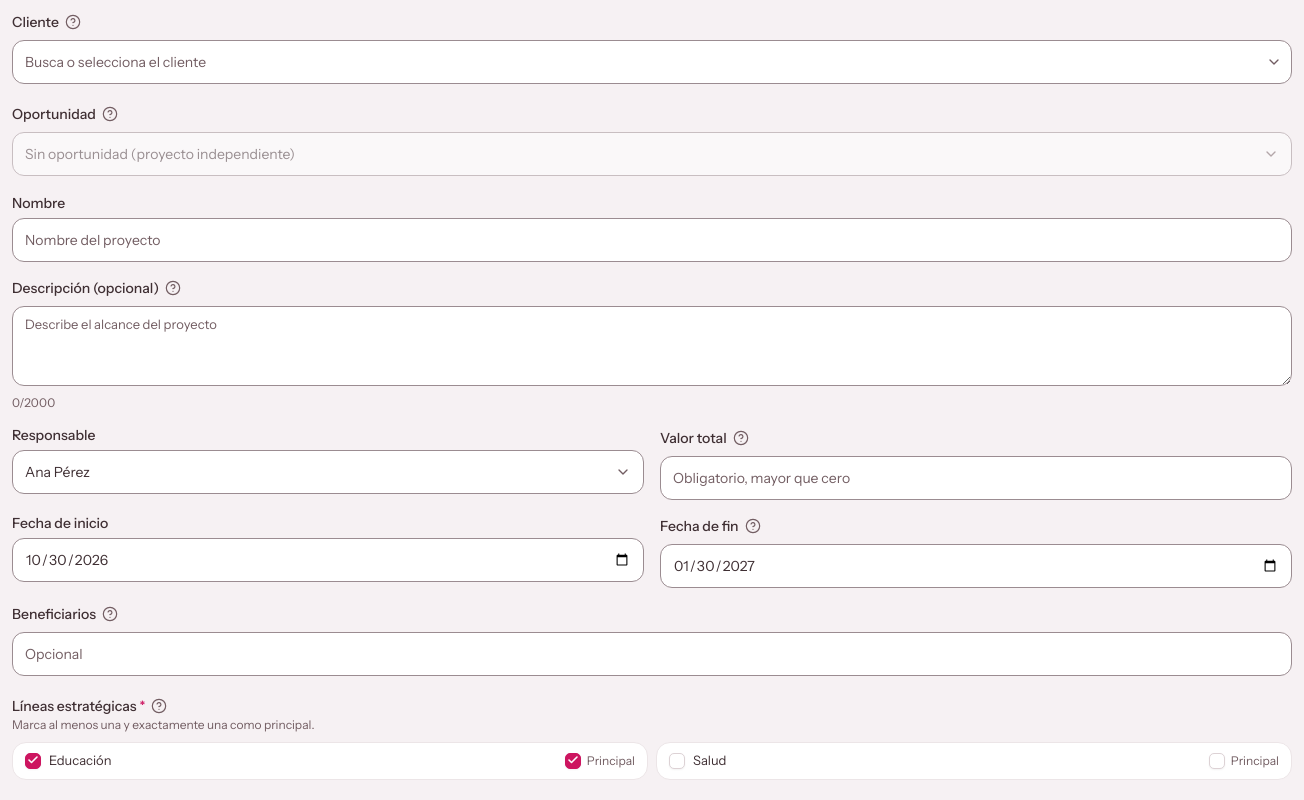
Test: ProjectCreateForm › shows the client card with the data available once a client is chosen
The width and height of the screenshot is (1304, 800).
Click the dropdown labelled "Cliente". click: (652, 62)
box: [12,40,1292,84]
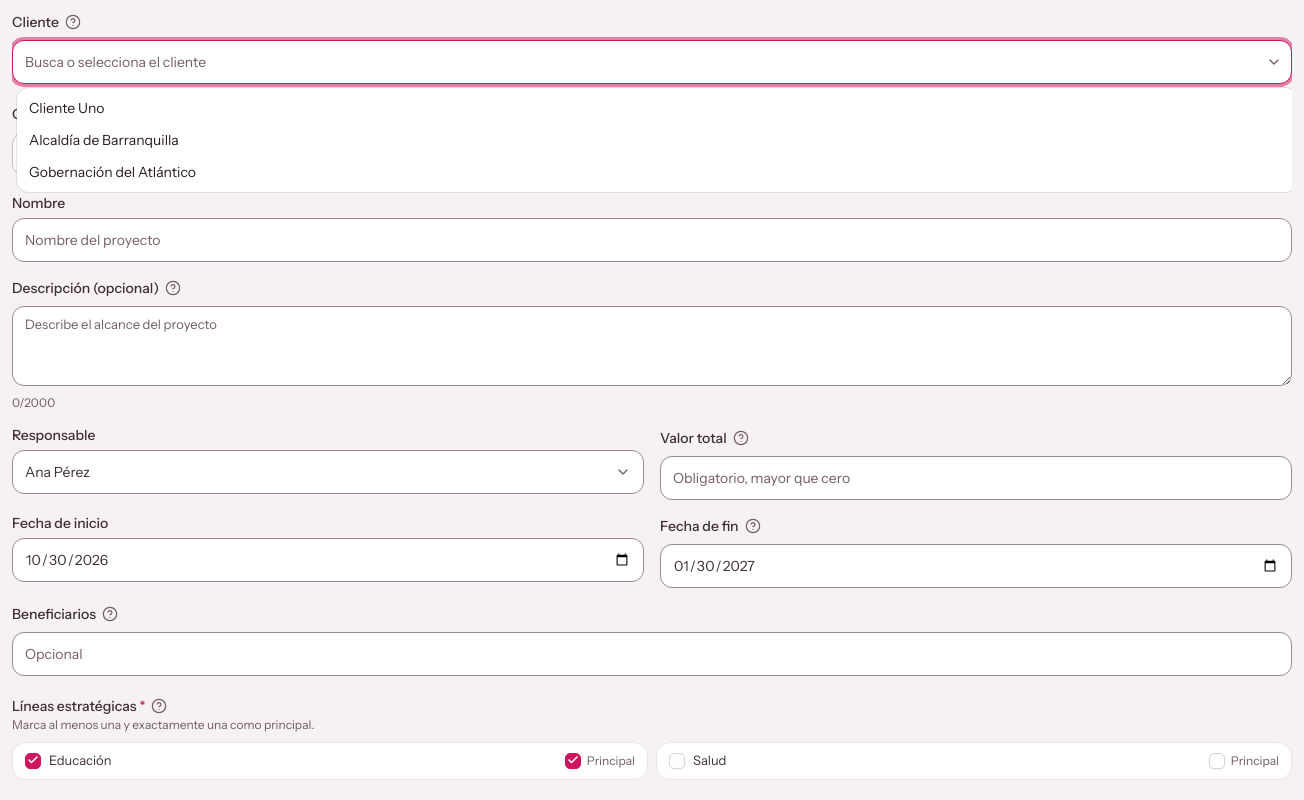
Click the option "Alcaldía de Barranquilla". click: (104, 140)
box: [29,131,179,149]
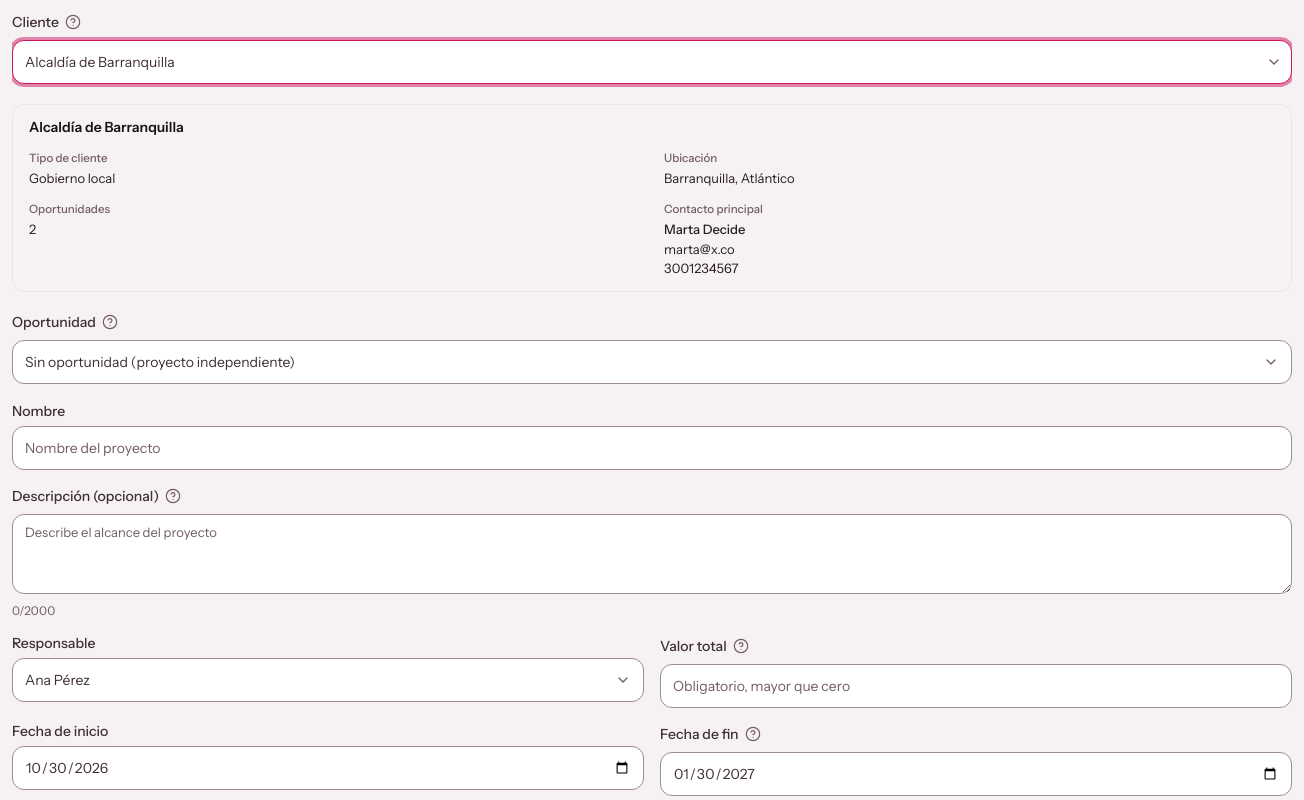
Expected: the element named "Datos del cliente" shows "Barranquilla, Atlántico", [664,170,795,186]
Expected: the element named "Datos del cliente" shows "Marta Decide", [664,221,745,237]
Expected: the element named "Datos del cliente" shows "marta@x.co", [664,240,735,256]
